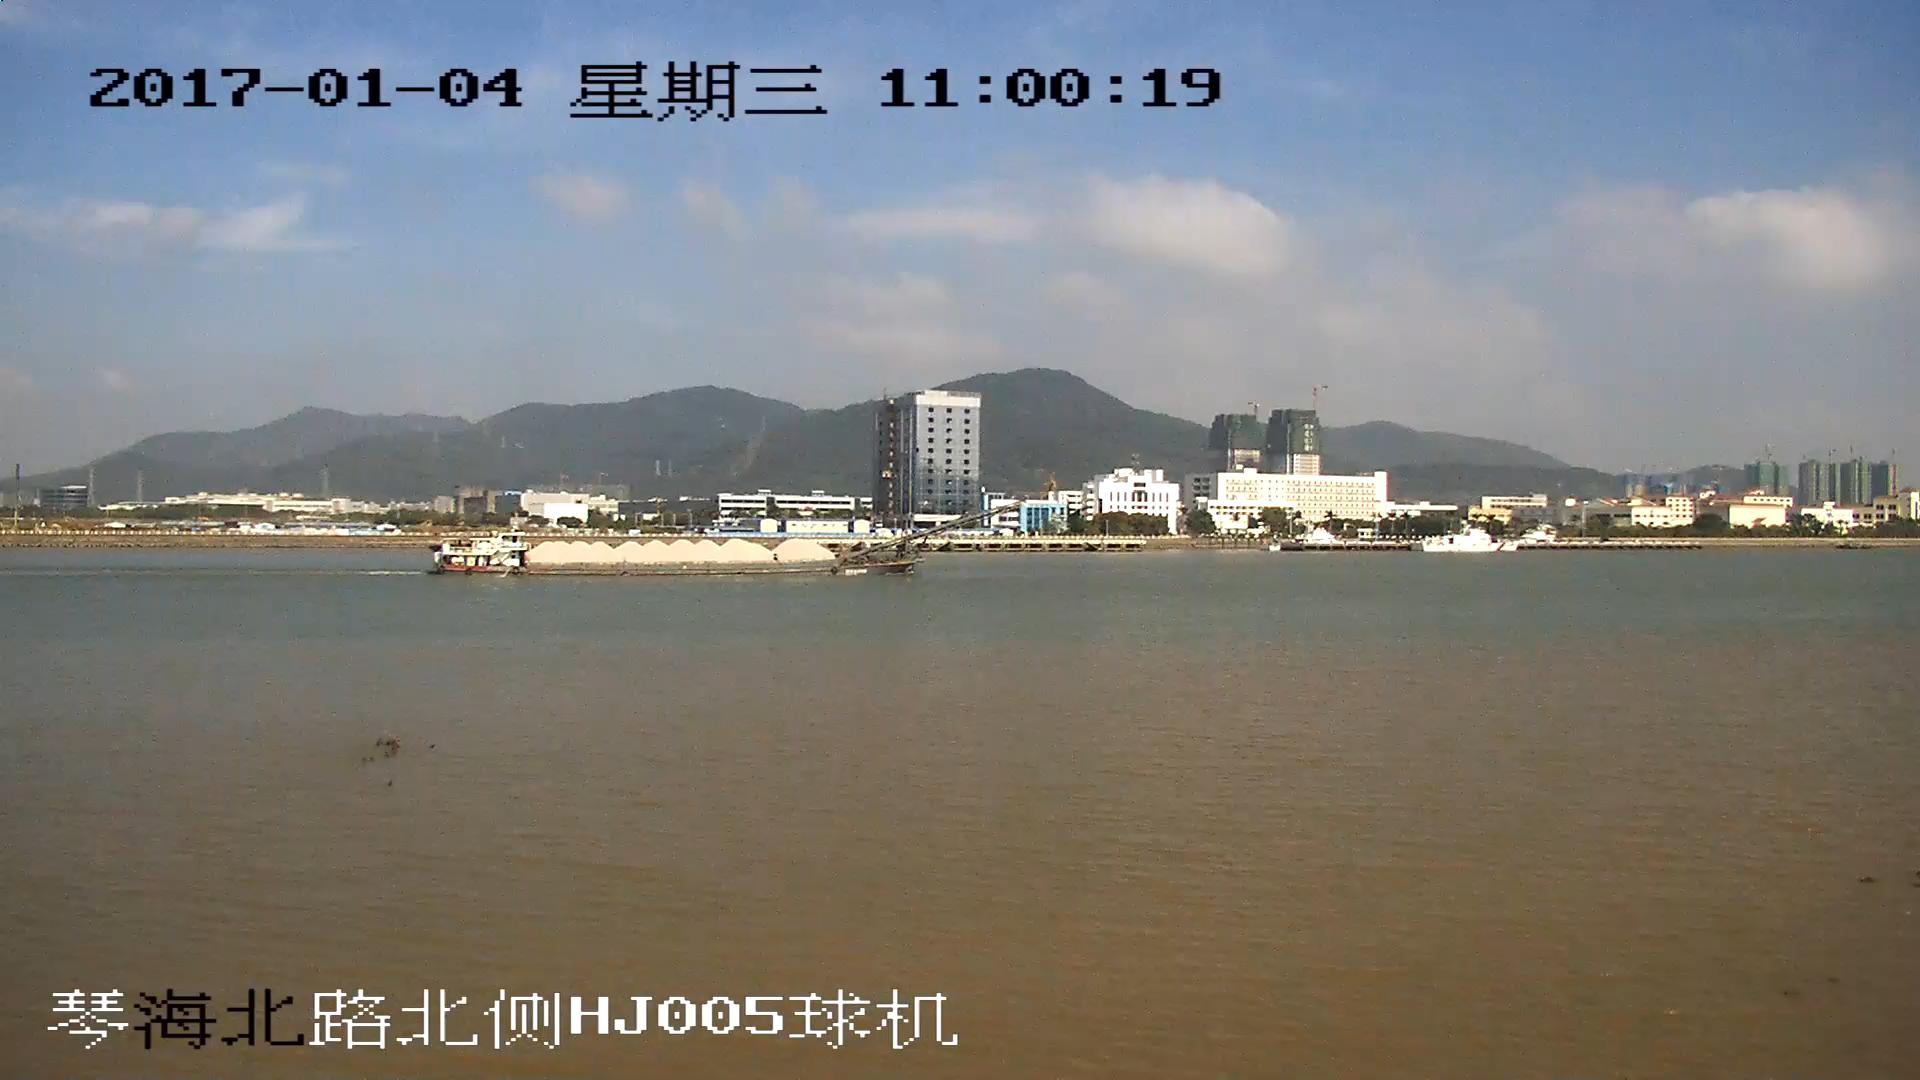ore carrier: (432, 508, 1003, 578)
